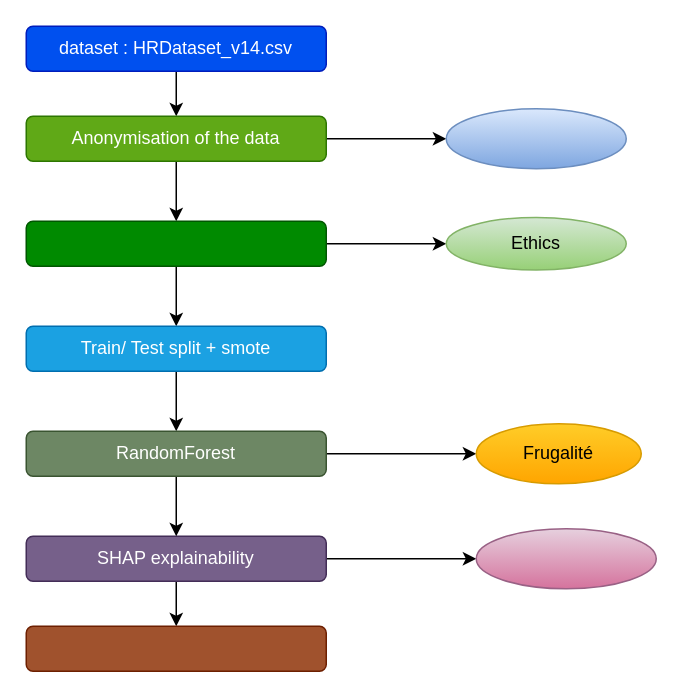
Some shapes in this 683 by 698 pixel diagram are drawn without their labels. Here are the shapes that lost their labels. From the top down, the centre of each, then its label:
pixel 535 138: cybersecurity
pixel 175 243: Feature engineering
pixel 565 558: Explainability
pixel 175 648: HR Dashboard
